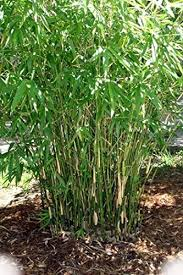bamboo: (2, 1, 183, 225)
